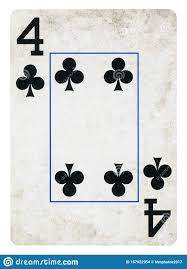four of clubs: (10, 11, 178, 246)
